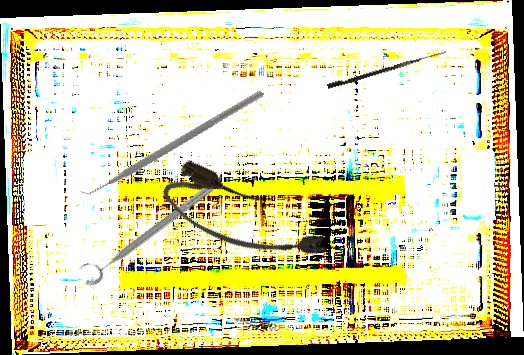Cannula: (154, 155, 337, 285)
Chopper: (72, 34, 265, 247)
Fixation Ring: (74, 173, 217, 290)
Hook Surgical: (326, 46, 447, 91)
